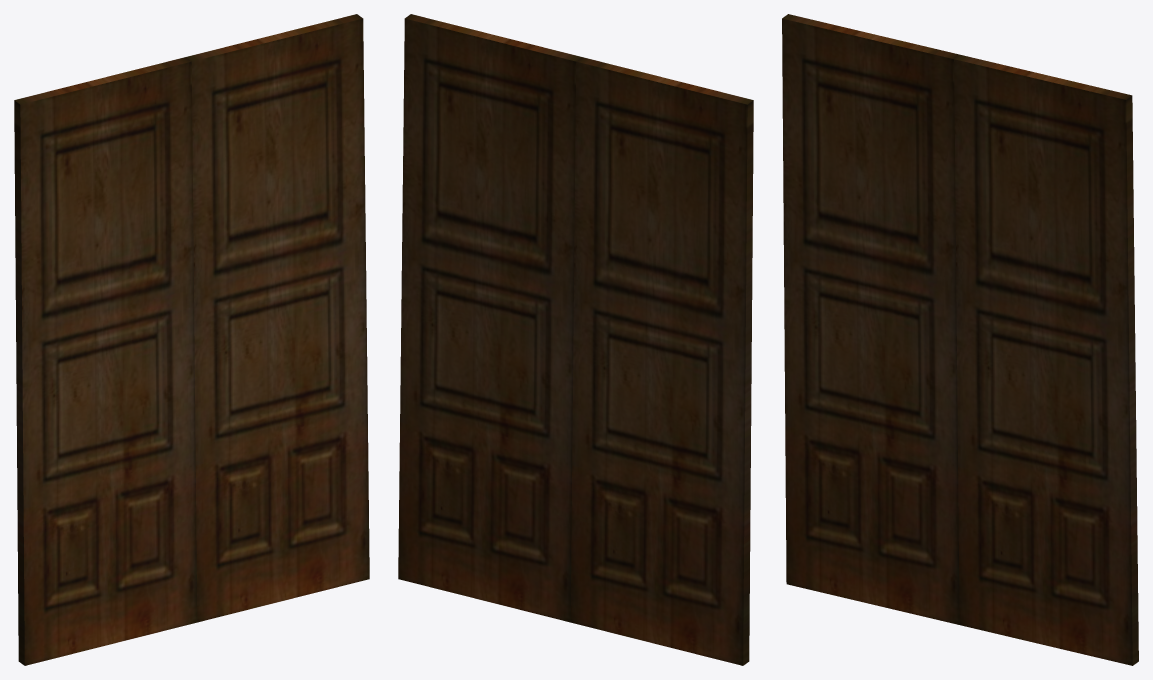
File: pir_m_bld_eng_mansion_door.fbx
3 renders of one model, left to right at view 1: azimuth 30°, elevation 25°; view 2: azimuth 150°, elevation 25°; view 3: azimuth 330°, elevation 25°, orthographic.
Visible parts, largest first — view 1: door_left, door_right; view 2: door_left, door_right; view 3: door_right, door_left.
Part boxes in pixels (<box>): door_left: <box>14,57,197,665</box>; door_right: <box>186,14,369,622</box>; door_left: <box>570,57,753,665</box>; door_right: <box>398,14,581,622</box>; door_right: <box>954,54,1138,665</box>; door_left: <box>782,14,959,624</box>.
Size of the model in its own units: 900 by 1390 by 27.44.
1 material, 1 textured.
